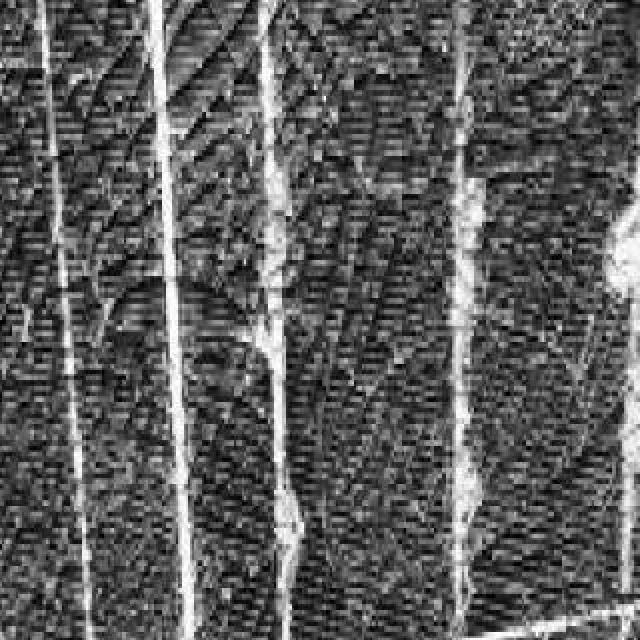Physical-damage: (20, 16, 640, 640)
